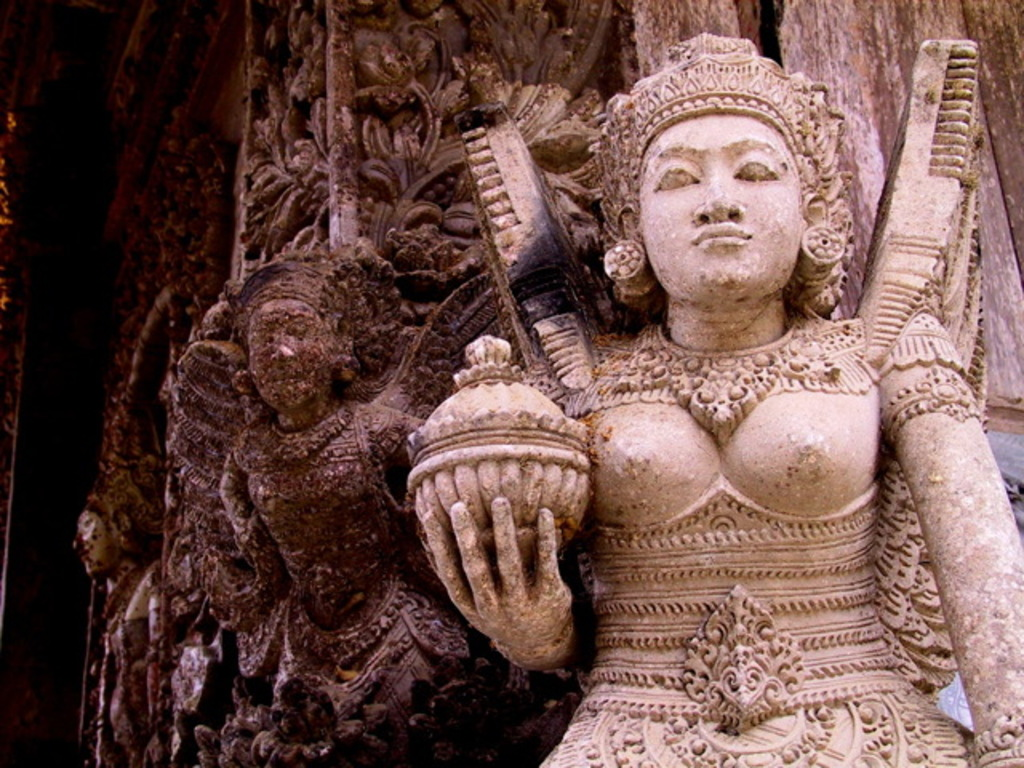face: (634, 94, 807, 297)
